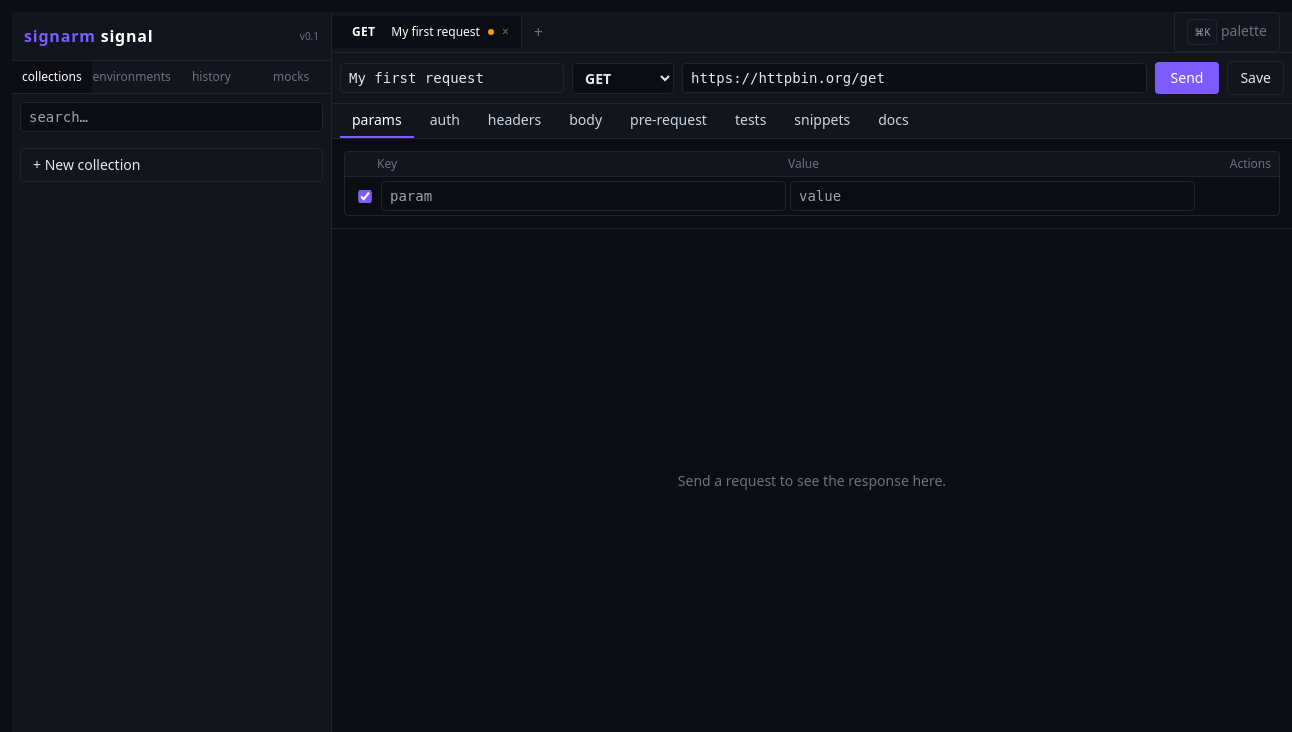
Test case: send request flow › network failure surfaces an error chip
Click the button "Send".
click(1187, 78)  # box [1155,62,1220,94]
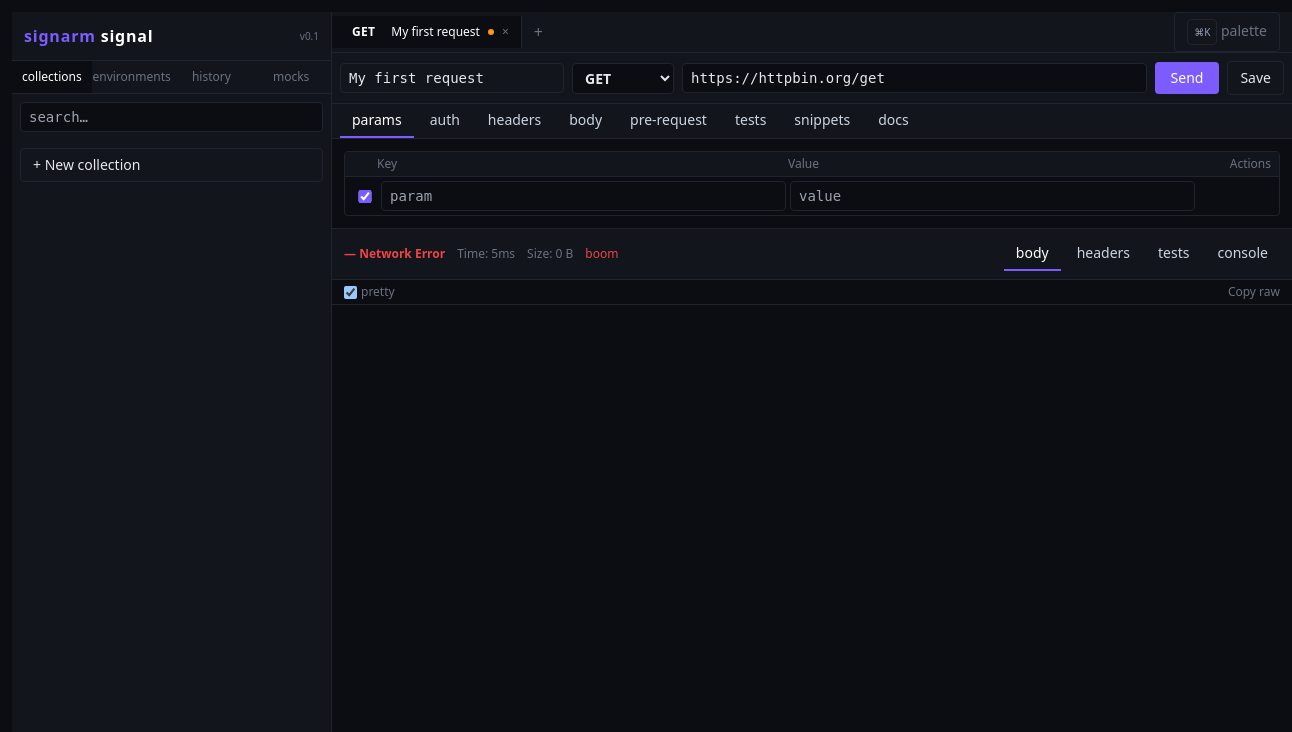
Now the text "— Network Error" is shown, box [344,246,445,262]
